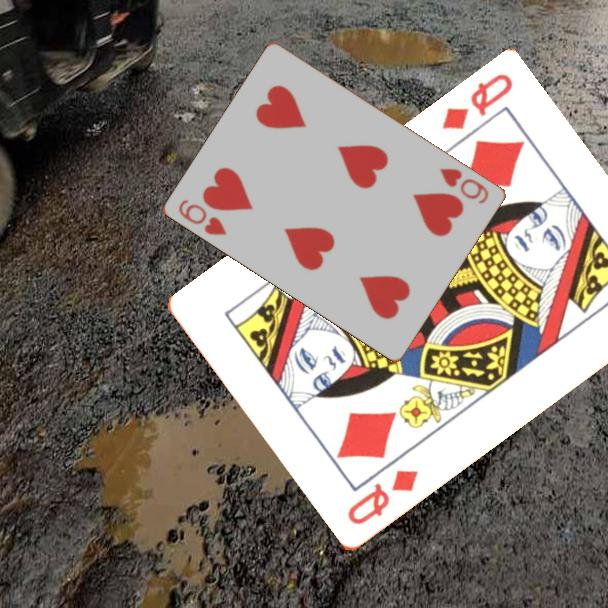d12: (438, 70, 516, 134), (343, 467, 422, 529)
h06: (436, 164, 492, 207), (175, 196, 230, 238)
